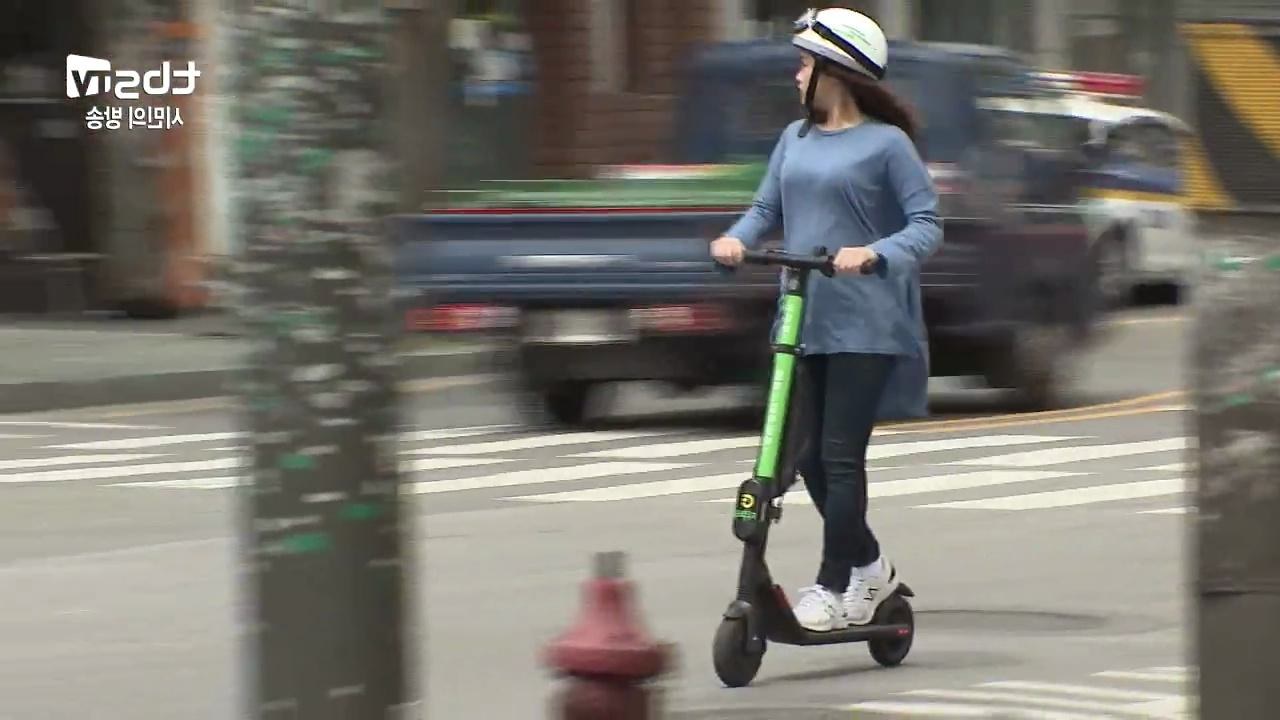helmet: (697, 5, 953, 692)
